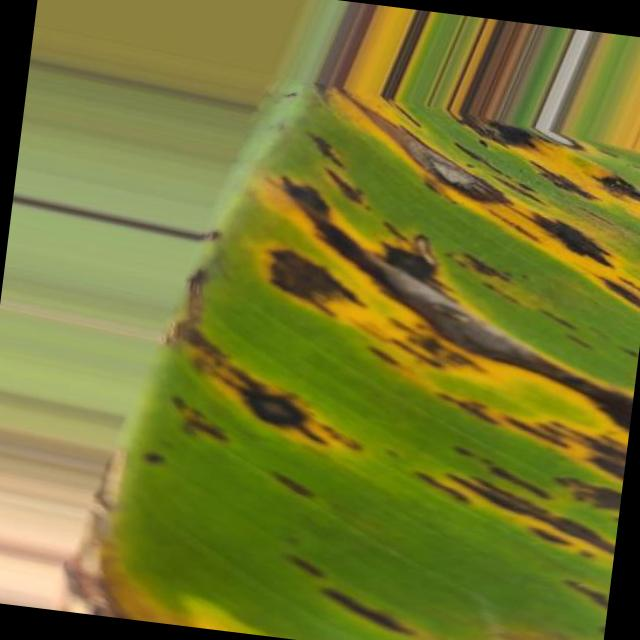Banana_Black_Sigatoka: (138, 316, 636, 625), (244, 78, 640, 413)
